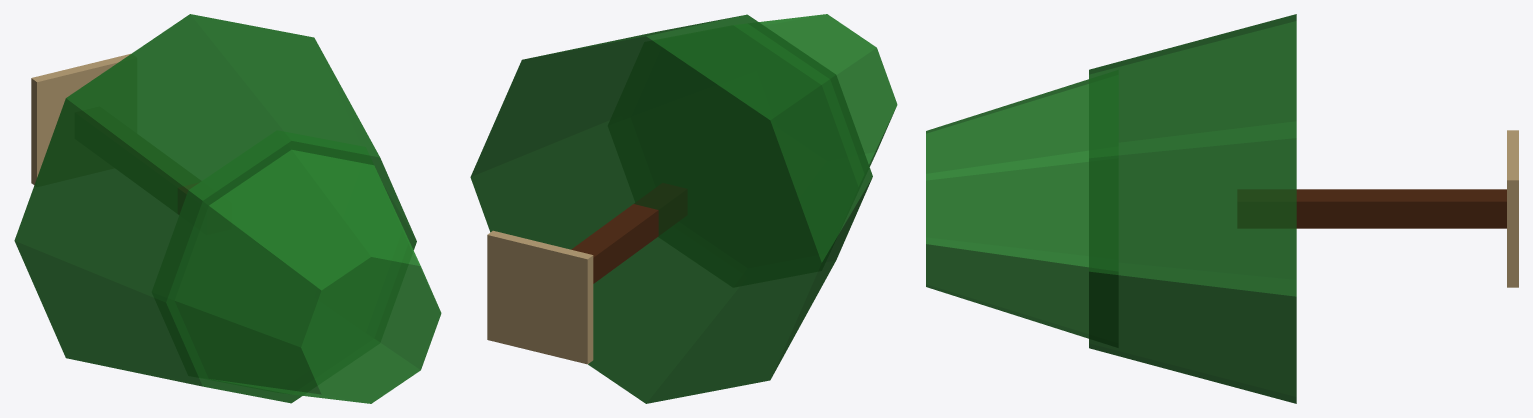
The model's file is tree.obj.
The picture shows the model from 3 angles, left to right: view 1: azimuth 30°, elevation 25°; view 2: azimuth 150°, elevation 25°; view 3: azimuth 270°, elevation 25°; orthographic projection. The views are drawn at different scales.
Visible parts, largest first — view 1: large_truncated_octagonal_prism, small_truncated_octagonal_prism, beige_square_pad; view 2: large_truncated_octagonal_prism, small_truncated_octagonal_prism, beige_square_pad, brown_trunk; view 3: large_truncated_octagonal_prism, small_truncated_octagonal_prism, brown_trunk, beige_square_pad.
Part boxes in pixels (box(x1,y1,x2,y2)): large_truncated_octagonal_prism: box(14, 14, 416, 403); small_truncated_octagonal_prism: box(152, 130, 441, 403); beige_square_pad: box(31, 53, 130, 185); large_truncated_octagonal_prism: box(470, 14, 872, 403); small_truncated_octagonal_prism: box(608, 14, 897, 287); beige_square_pad: box(487, 230, 593, 364); brown_trunk: box(571, 183, 687, 283); large_truncated_octagonal_prism: box(1089, 14, 1296, 403); small_truncated_octagonal_prism: box(926, 70, 1118, 347); brown_trunk: box(1237, 189, 1506, 228); beige_square_pad: box(1507, 130, 1518, 287).
Bounding box in the file's own units: 1.4 × 1.4 × 2.
